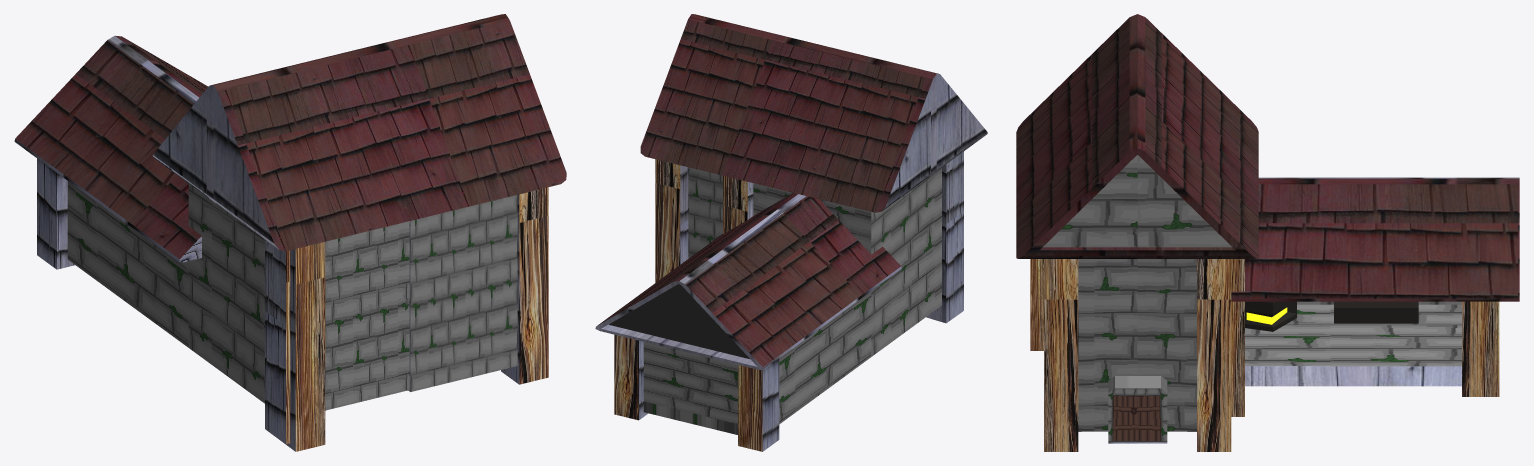
File: blacksmithfbx 1.fbx
3 views of the same model, side by side, from view 1: azimuth 30°, elevation 25°; view 2: azimuth 150°, elevation 25°; view 3: azimuth 270°, elevation 25° (orthographic). The views are drawn at different scales.
Parts seen in each view (by area): view 1: Cube.004; view 2: Cube.004; view 3: Cube.004, Cube, Cylinder.008.
Boxes of the visible parts, left/top/right/bottom form: Cube.004: left=14, top=14, right=566, bottom=451; Cube.004: left=595, top=14, right=987, bottom=451; Cube.004: left=1016, top=14, right=1519, bottom=451; Cube: left=1334, top=301, right=1418, bottom=323; Cylinder.008: left=1245, top=301, right=1296, bottom=331.
Size of the model in its own units: 1886 by 1980 by 2893.
